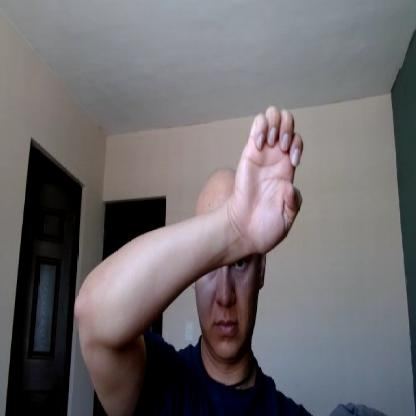E: (231, 107, 306, 252)
